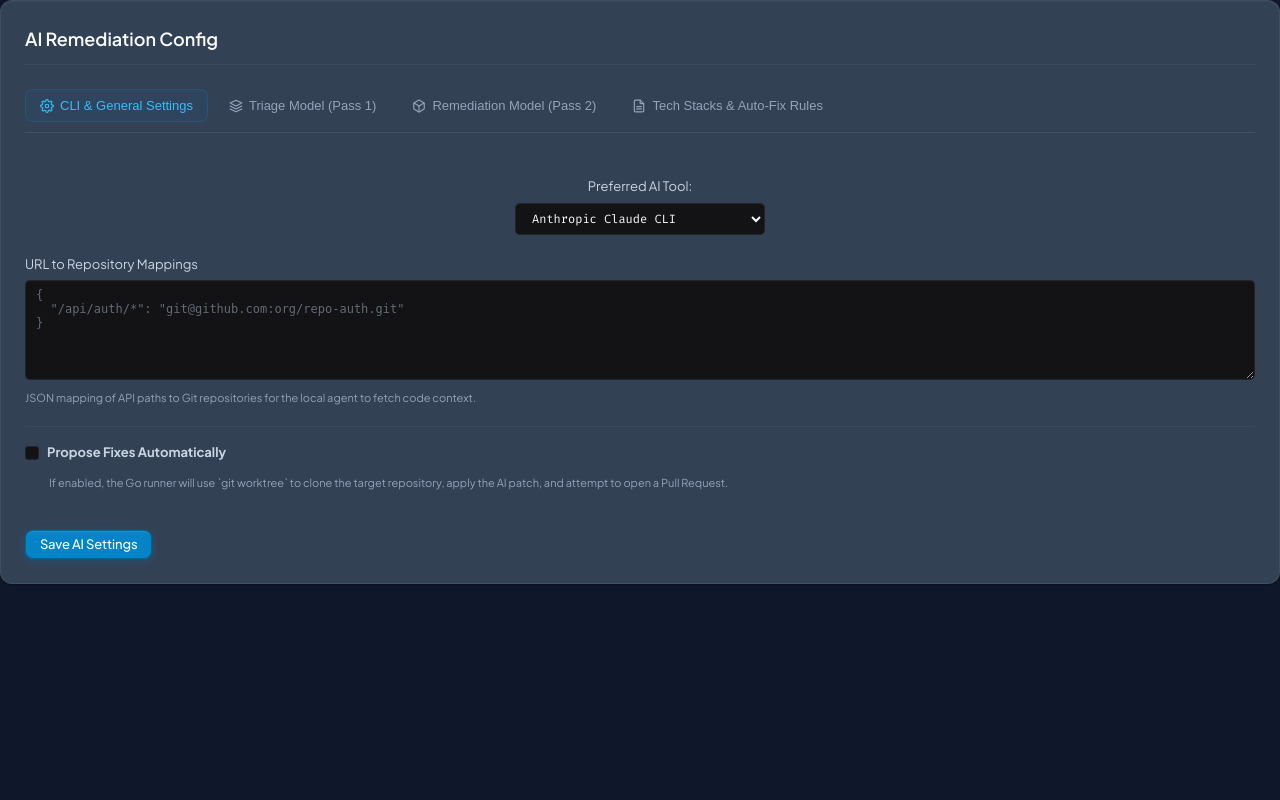
Test case: AiRemediationTab Component › displays error message when saving settings fails
The image size is (1280, 800).
Step 1. Click the button "Save AI Settings" → (89, 544), box [25,530,152,559]
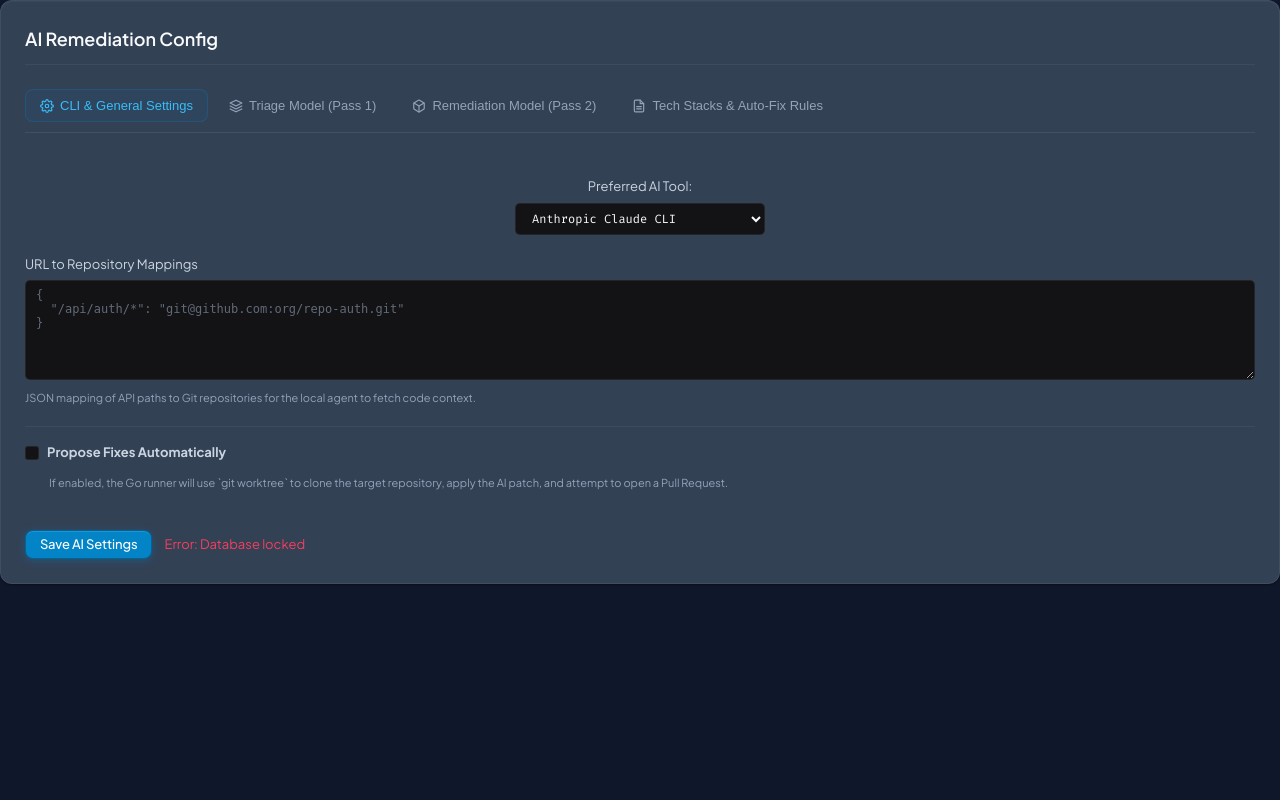
Check: the text "Error: Database locked" is shown, box [164,535,305,554]
